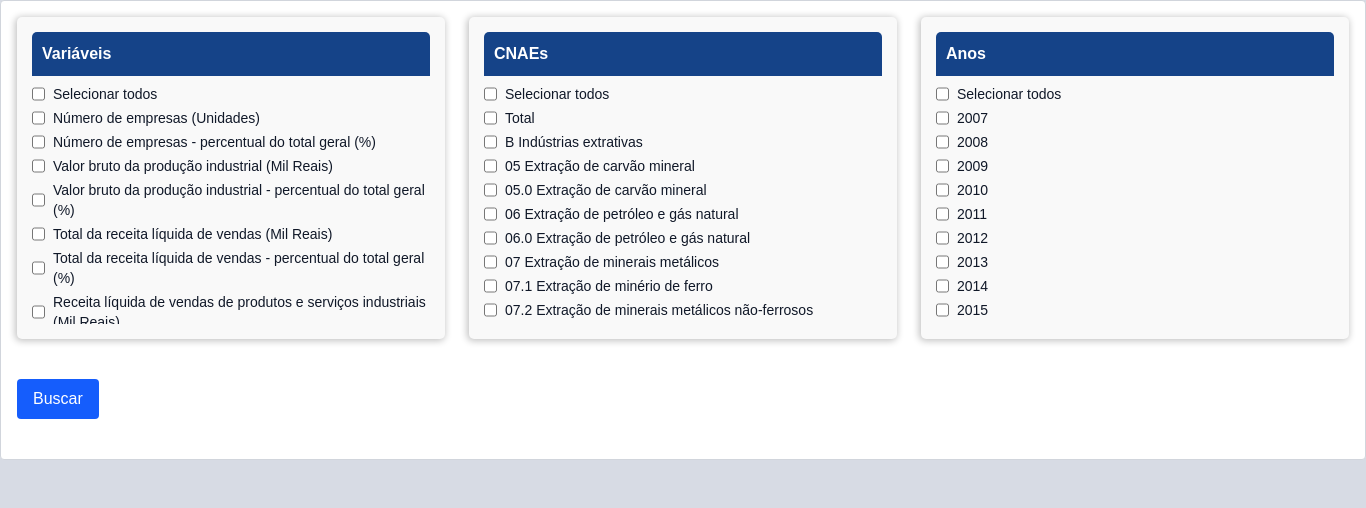
Test: Filter Component › deve mostrar erro se clicar em buscar sem filtros
The width and height of the screenshot is (1366, 508).
Step 1. Click the button "Buscar" → (58, 399), box x1=17 y1=379 x2=99 y2=419
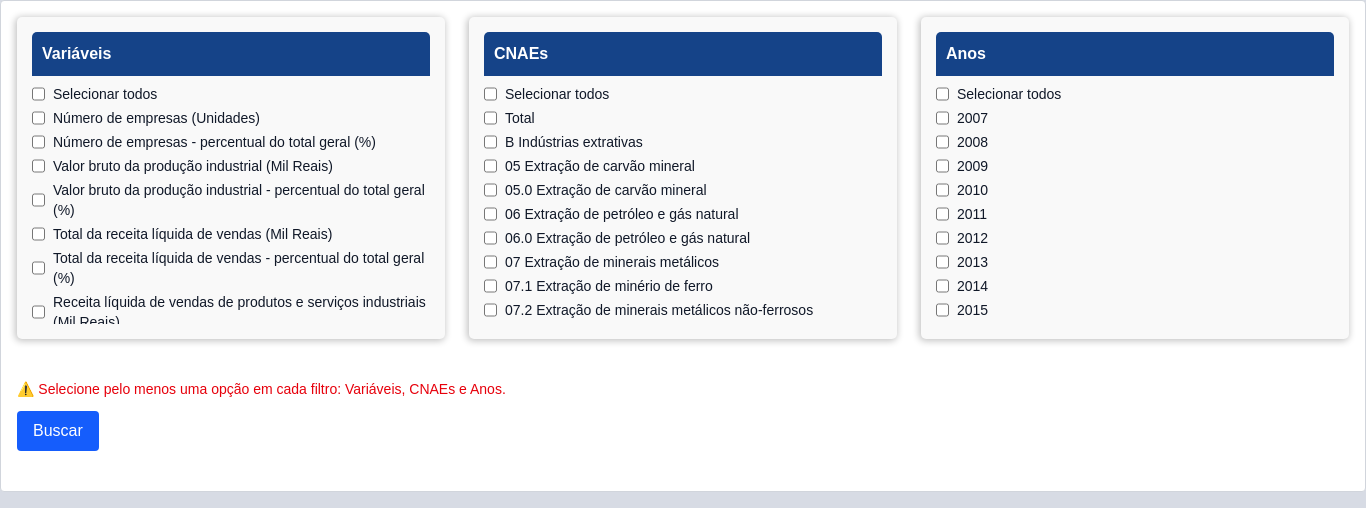
expect the text "Selecione pelo menos uma opção em cada filtro" is shown: met, box x1=38 y1=381 x2=506 y2=397
